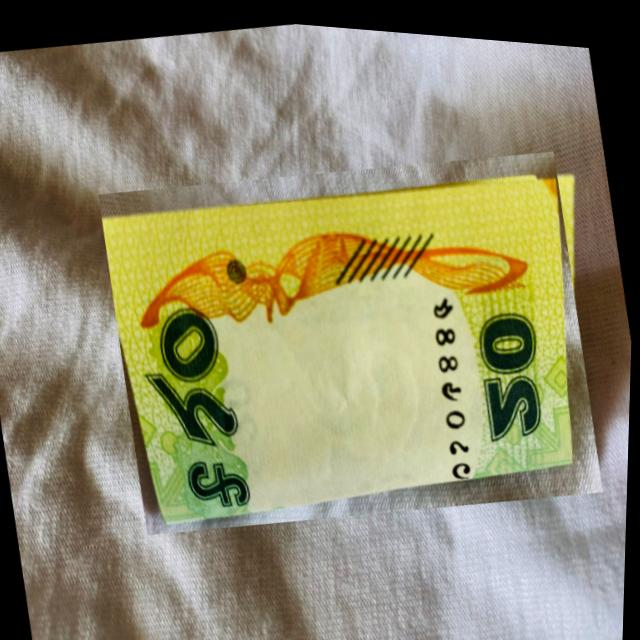Taka: (92, 113, 614, 560)
